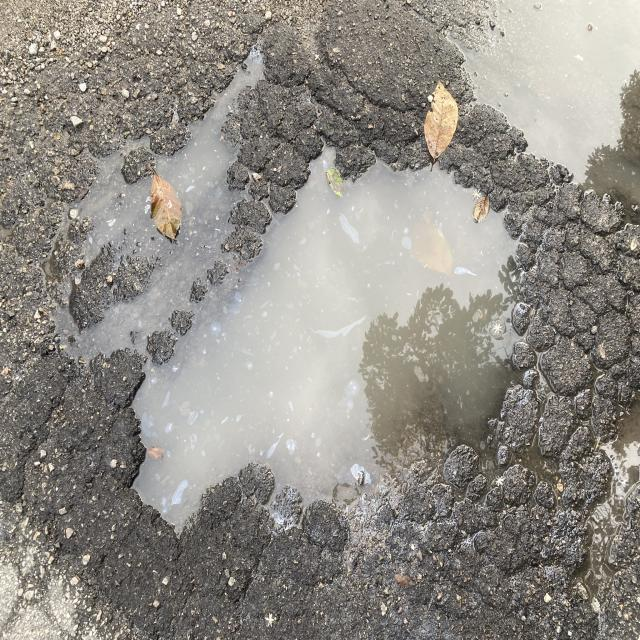Pothole: (75, 44, 607, 560)
